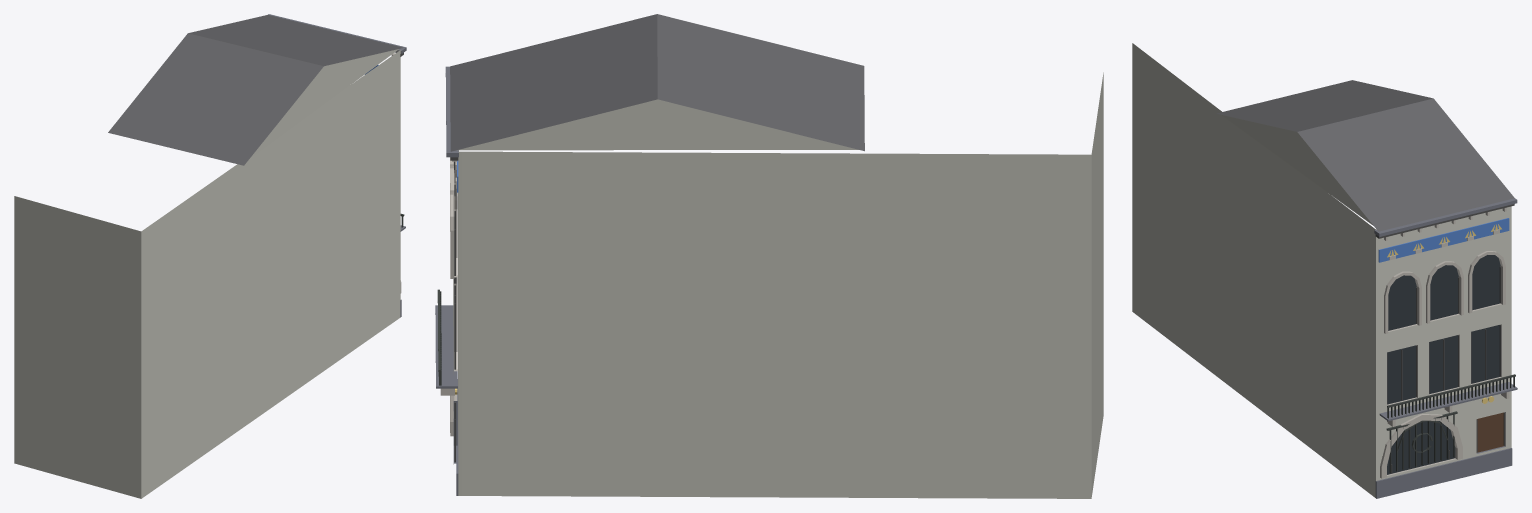
3 views of the same model, side by side, from view 1: azimuth 30°, elevation 25°; view 2: azimuth 150°, elevation 25°; view 3: azimuth 270°, elevation 25° (orthographic). The views are drawn at different scales.
Size of the model in its own units: 23.27 by 15.2 by 17.14.
